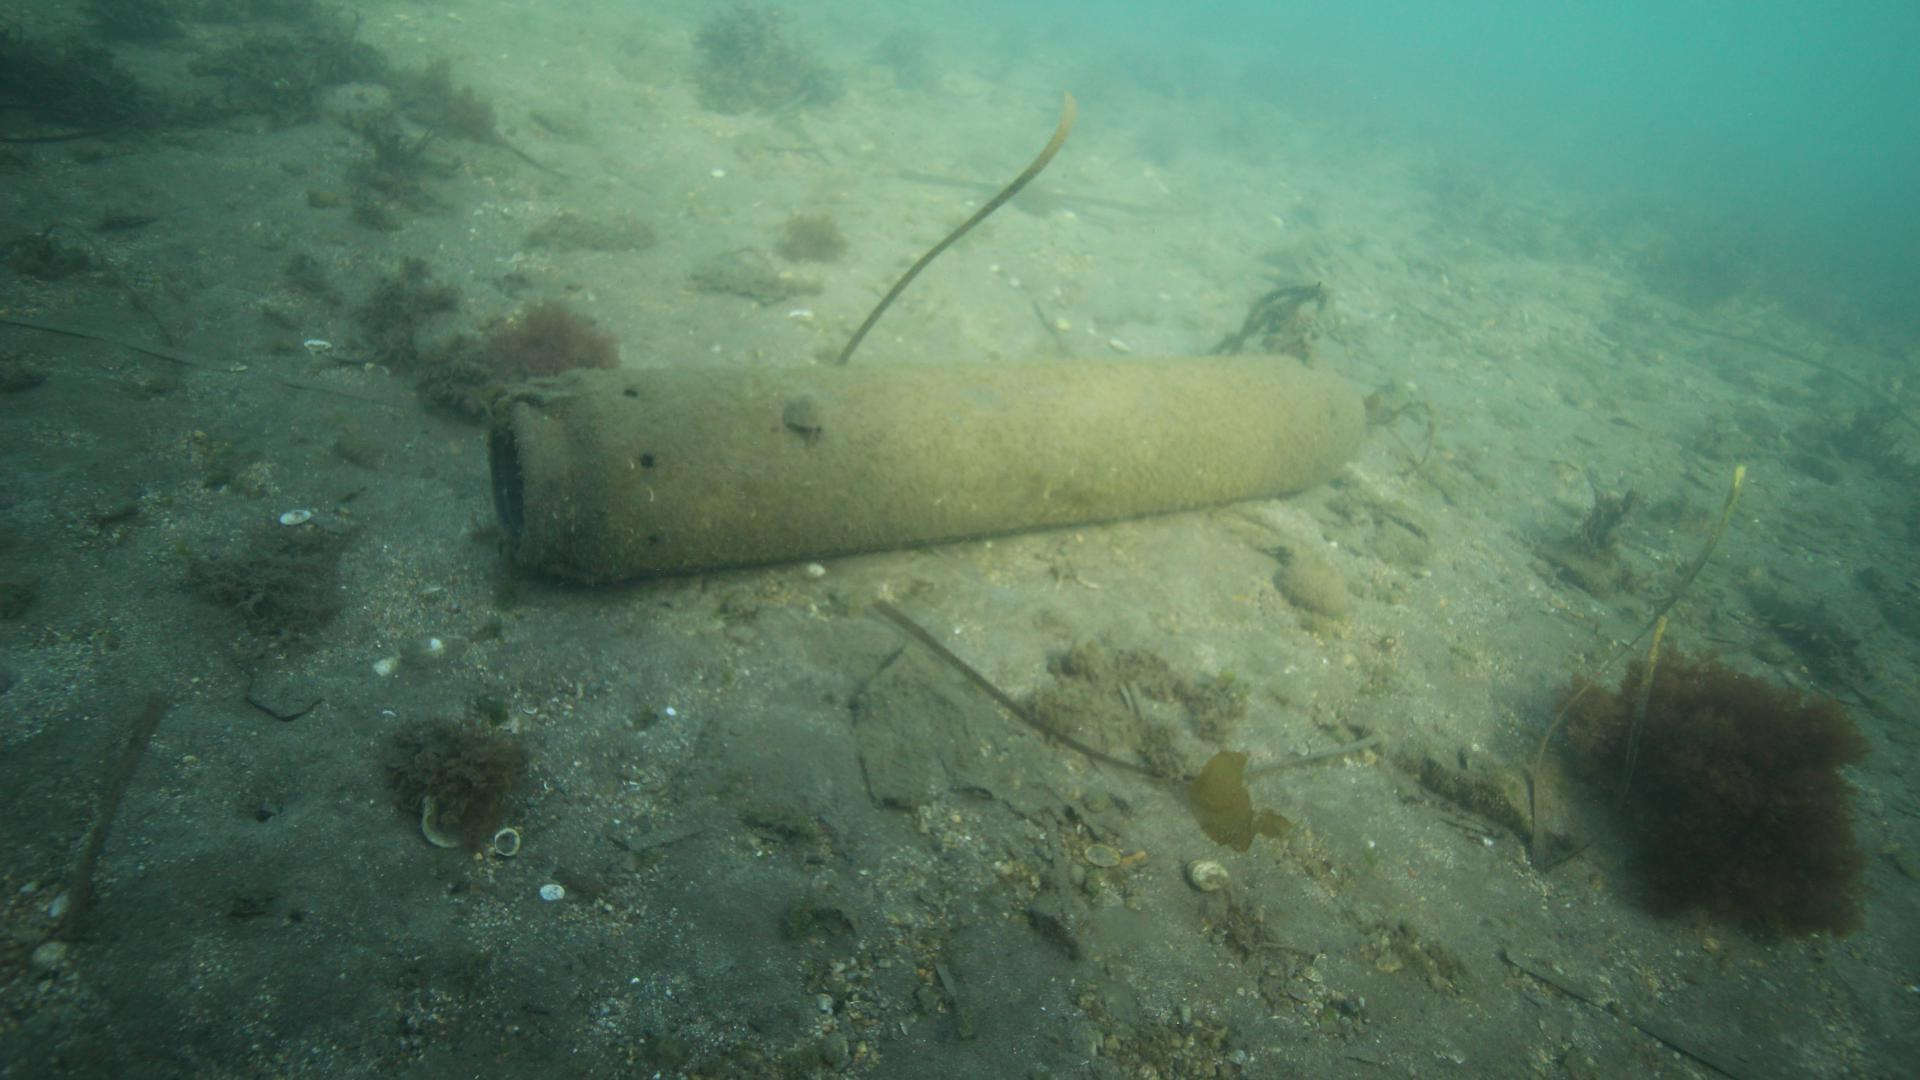eel fish trap: (487, 349, 1369, 585)
